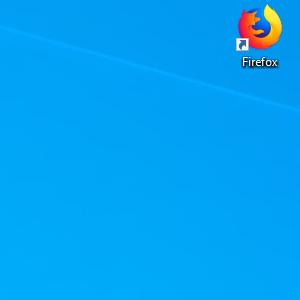firefox: (236, 3, 283, 51)
